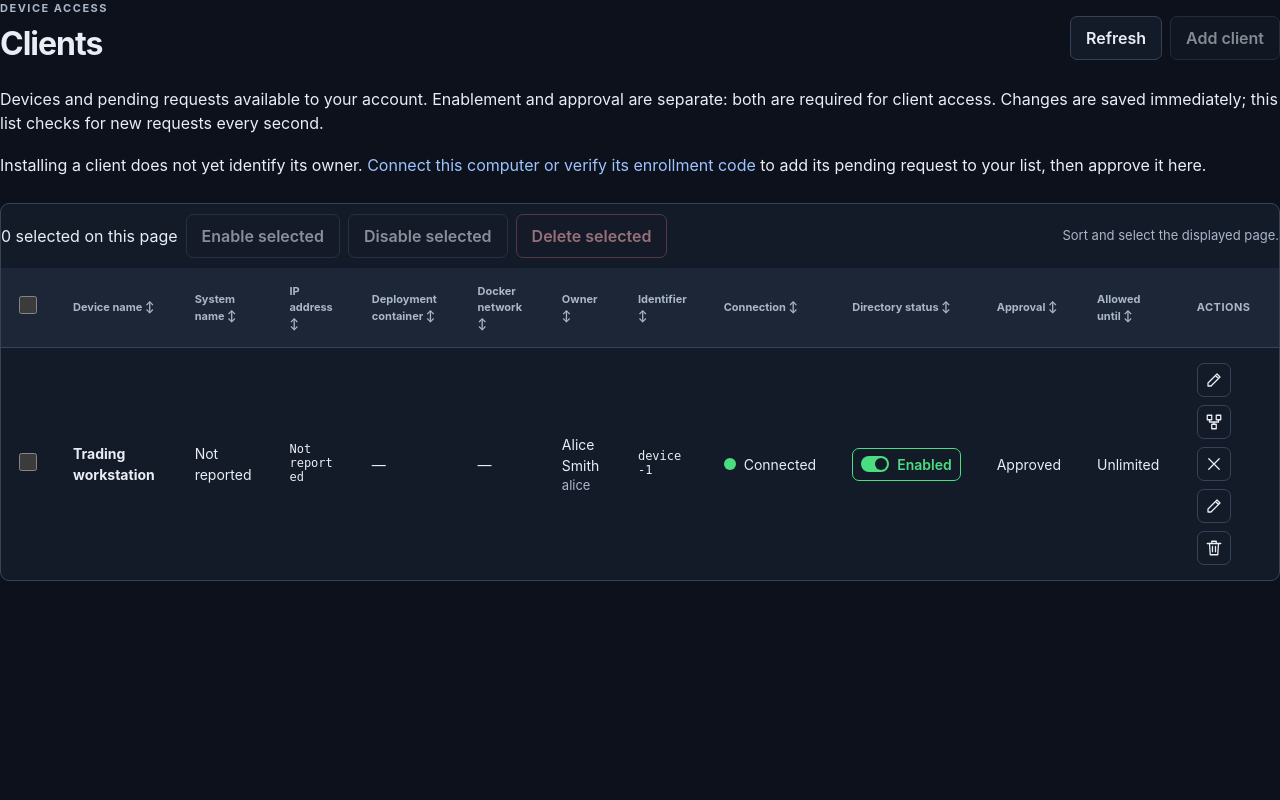
it: Device management › shows group-loading failures inside the approval popup and keeps approval disabled
This screenshot has width=1280, height=800.
Click the button named "Change approval device-1" at (1214, 506), box top-left (1197, 489), bottom-right (1231, 523)
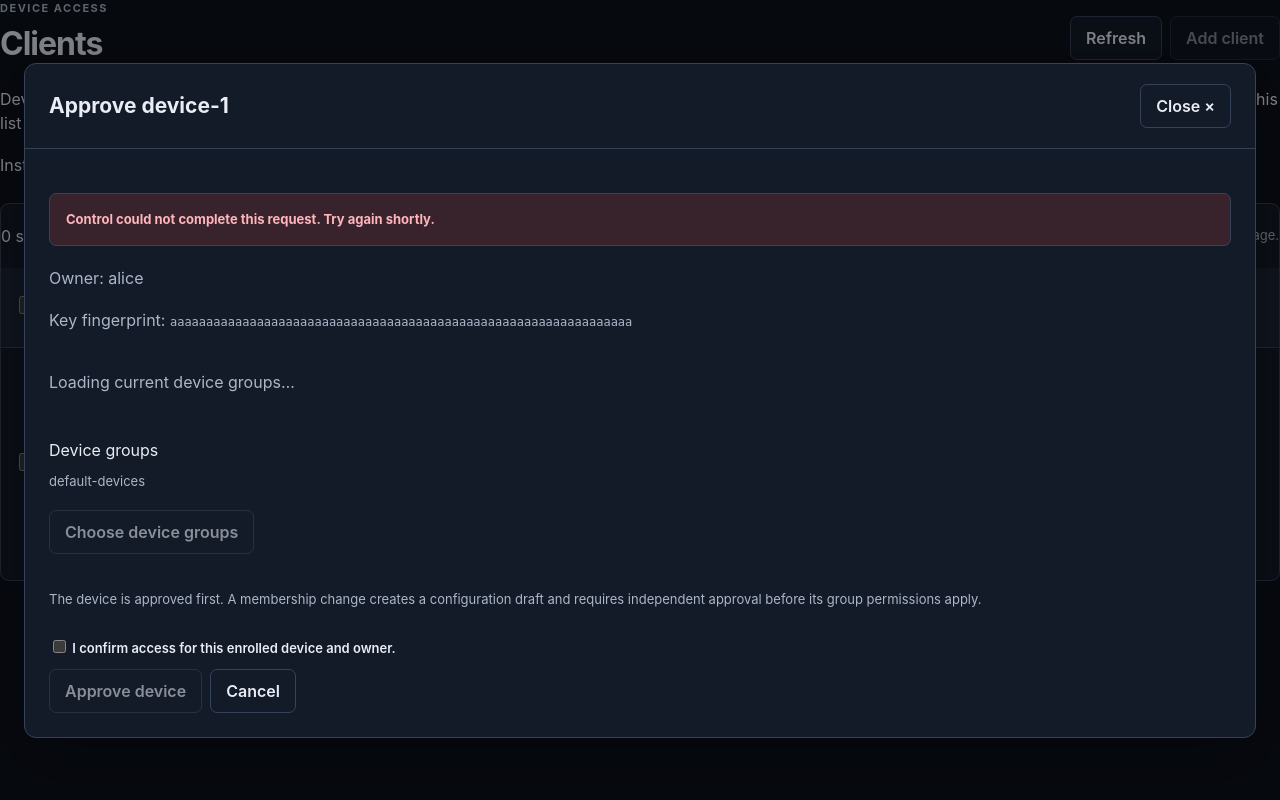
Result: the button "Approve device" is disabled at top-left (49, 668), bottom-right (202, 712)
Click the button with aria-label "Close approval" at (1186, 106), box top-left (1140, 84), bottom-right (1231, 128)
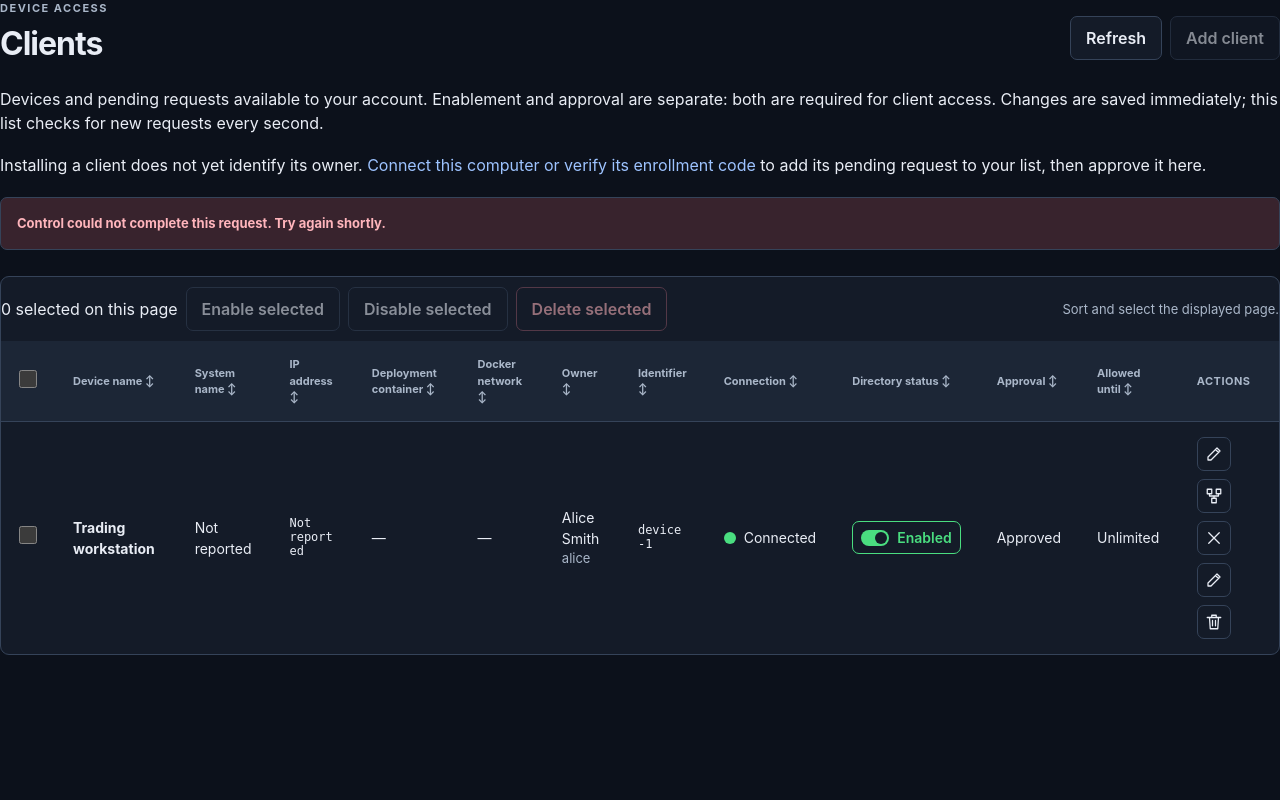
Result: the dialog is gone
